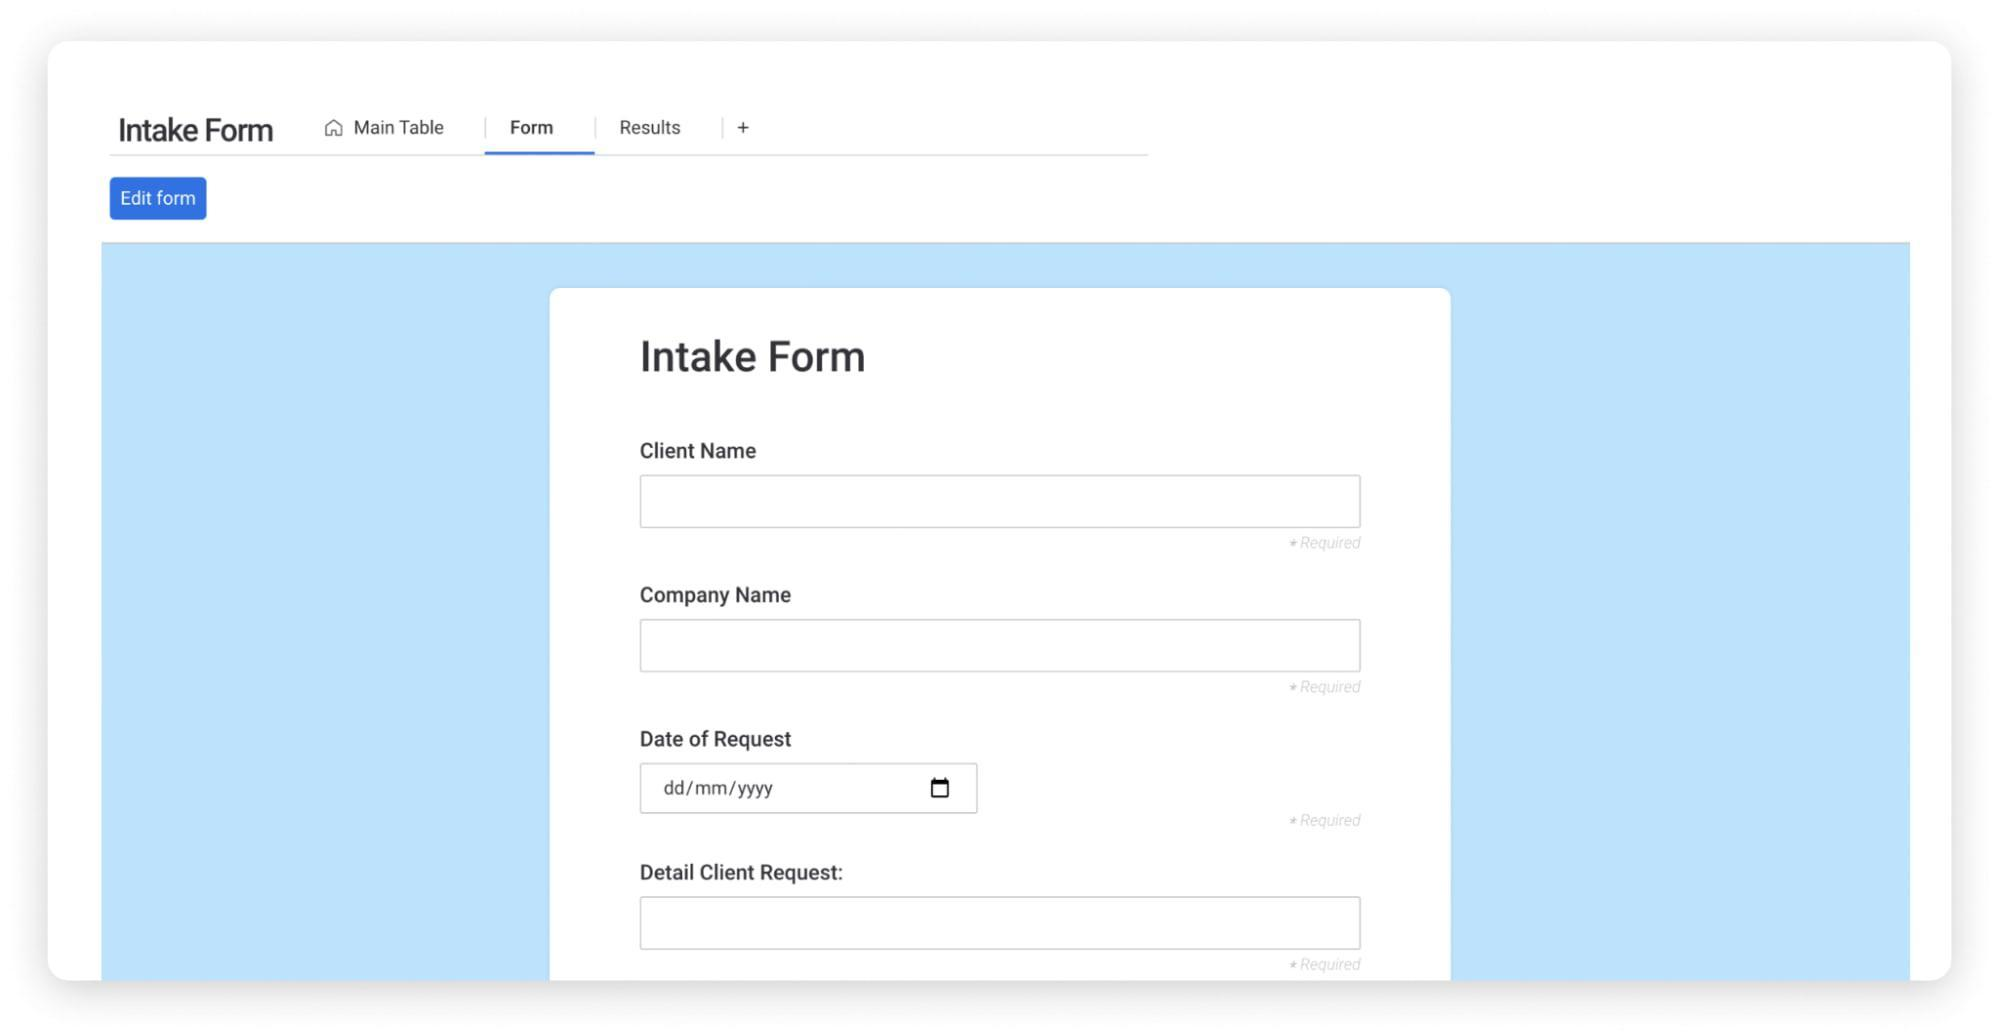button: (484, 110, 599, 155), (111, 176, 207, 221)
icon: (927, 769, 961, 807), (320, 115, 351, 148), (733, 116, 758, 139)
input: (642, 892, 1360, 958), (641, 616, 1365, 681), (639, 474, 1362, 531), (639, 765, 976, 819)
label: (636, 337, 883, 377), (639, 862, 848, 888), (639, 724, 803, 755), (119, 115, 273, 145), (636, 585, 798, 610), (641, 440, 770, 465), (355, 115, 451, 141), (613, 114, 691, 145)
